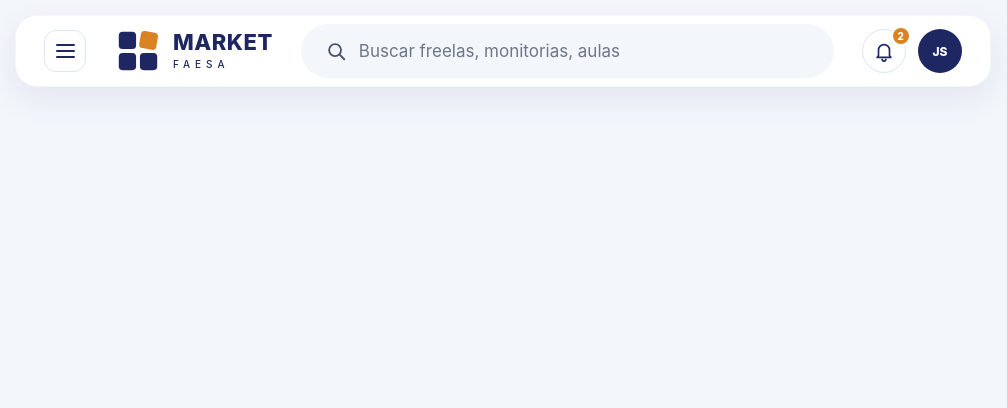
sino de notificações › marca todas como lidas até a mais nova exibida
The image size is (1007, 408).
Click the button named "Notificações" at (884, 51), box [862,29,906,73]
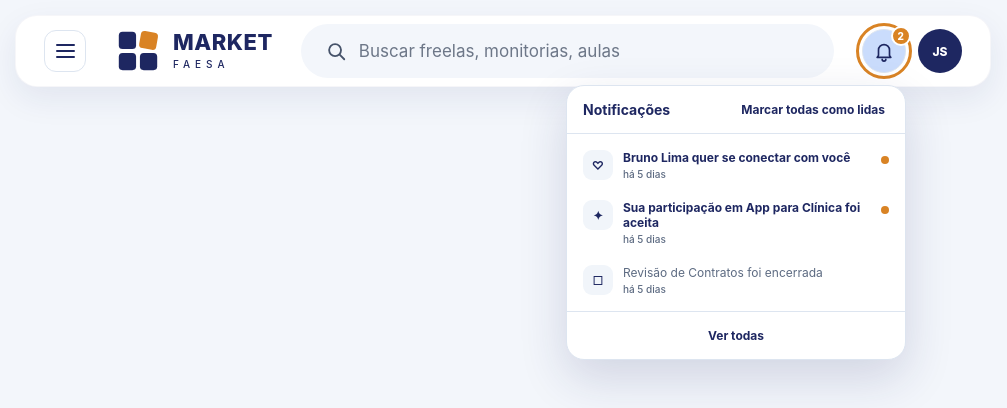
Result: the text "Bruno Lima quer se conectar com você" is shown at [623,150,871,165]
Click the button "Marcar todas como lidas" at (813, 110), box [737,98,889,121]
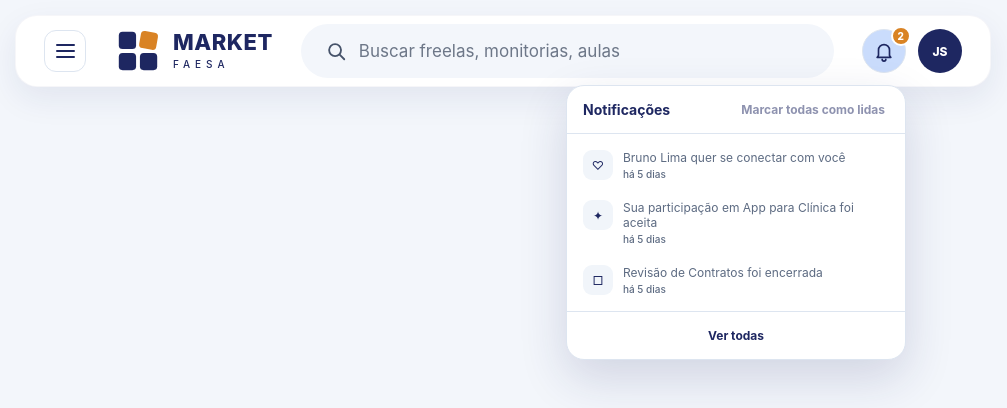
Expected: the button "Não lida:" is not shown
Result: the button "Marcar todas como lidas" is disabled at [737,98,889,121]
